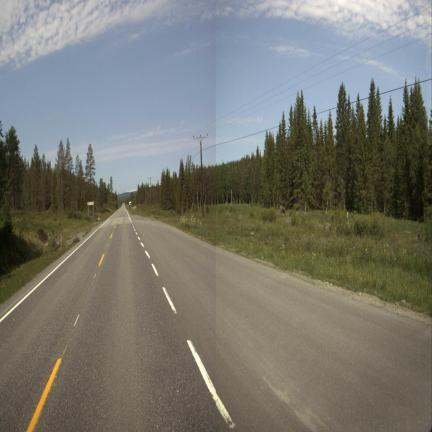Road: (0, 208, 431, 430)
